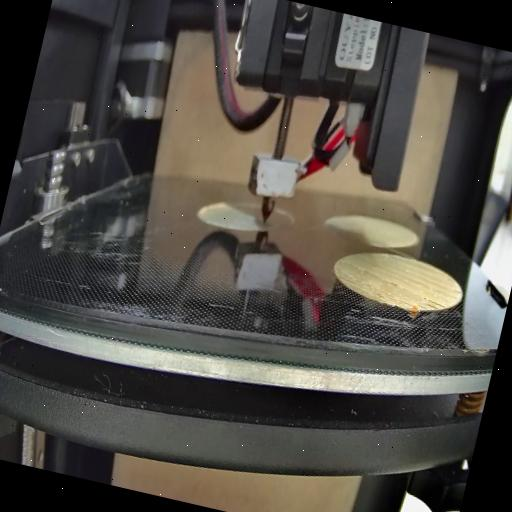under_extrusion: (359, 268, 409, 294), (416, 292, 448, 314), (376, 291, 413, 309), (336, 276, 358, 286), (448, 288, 464, 300)
